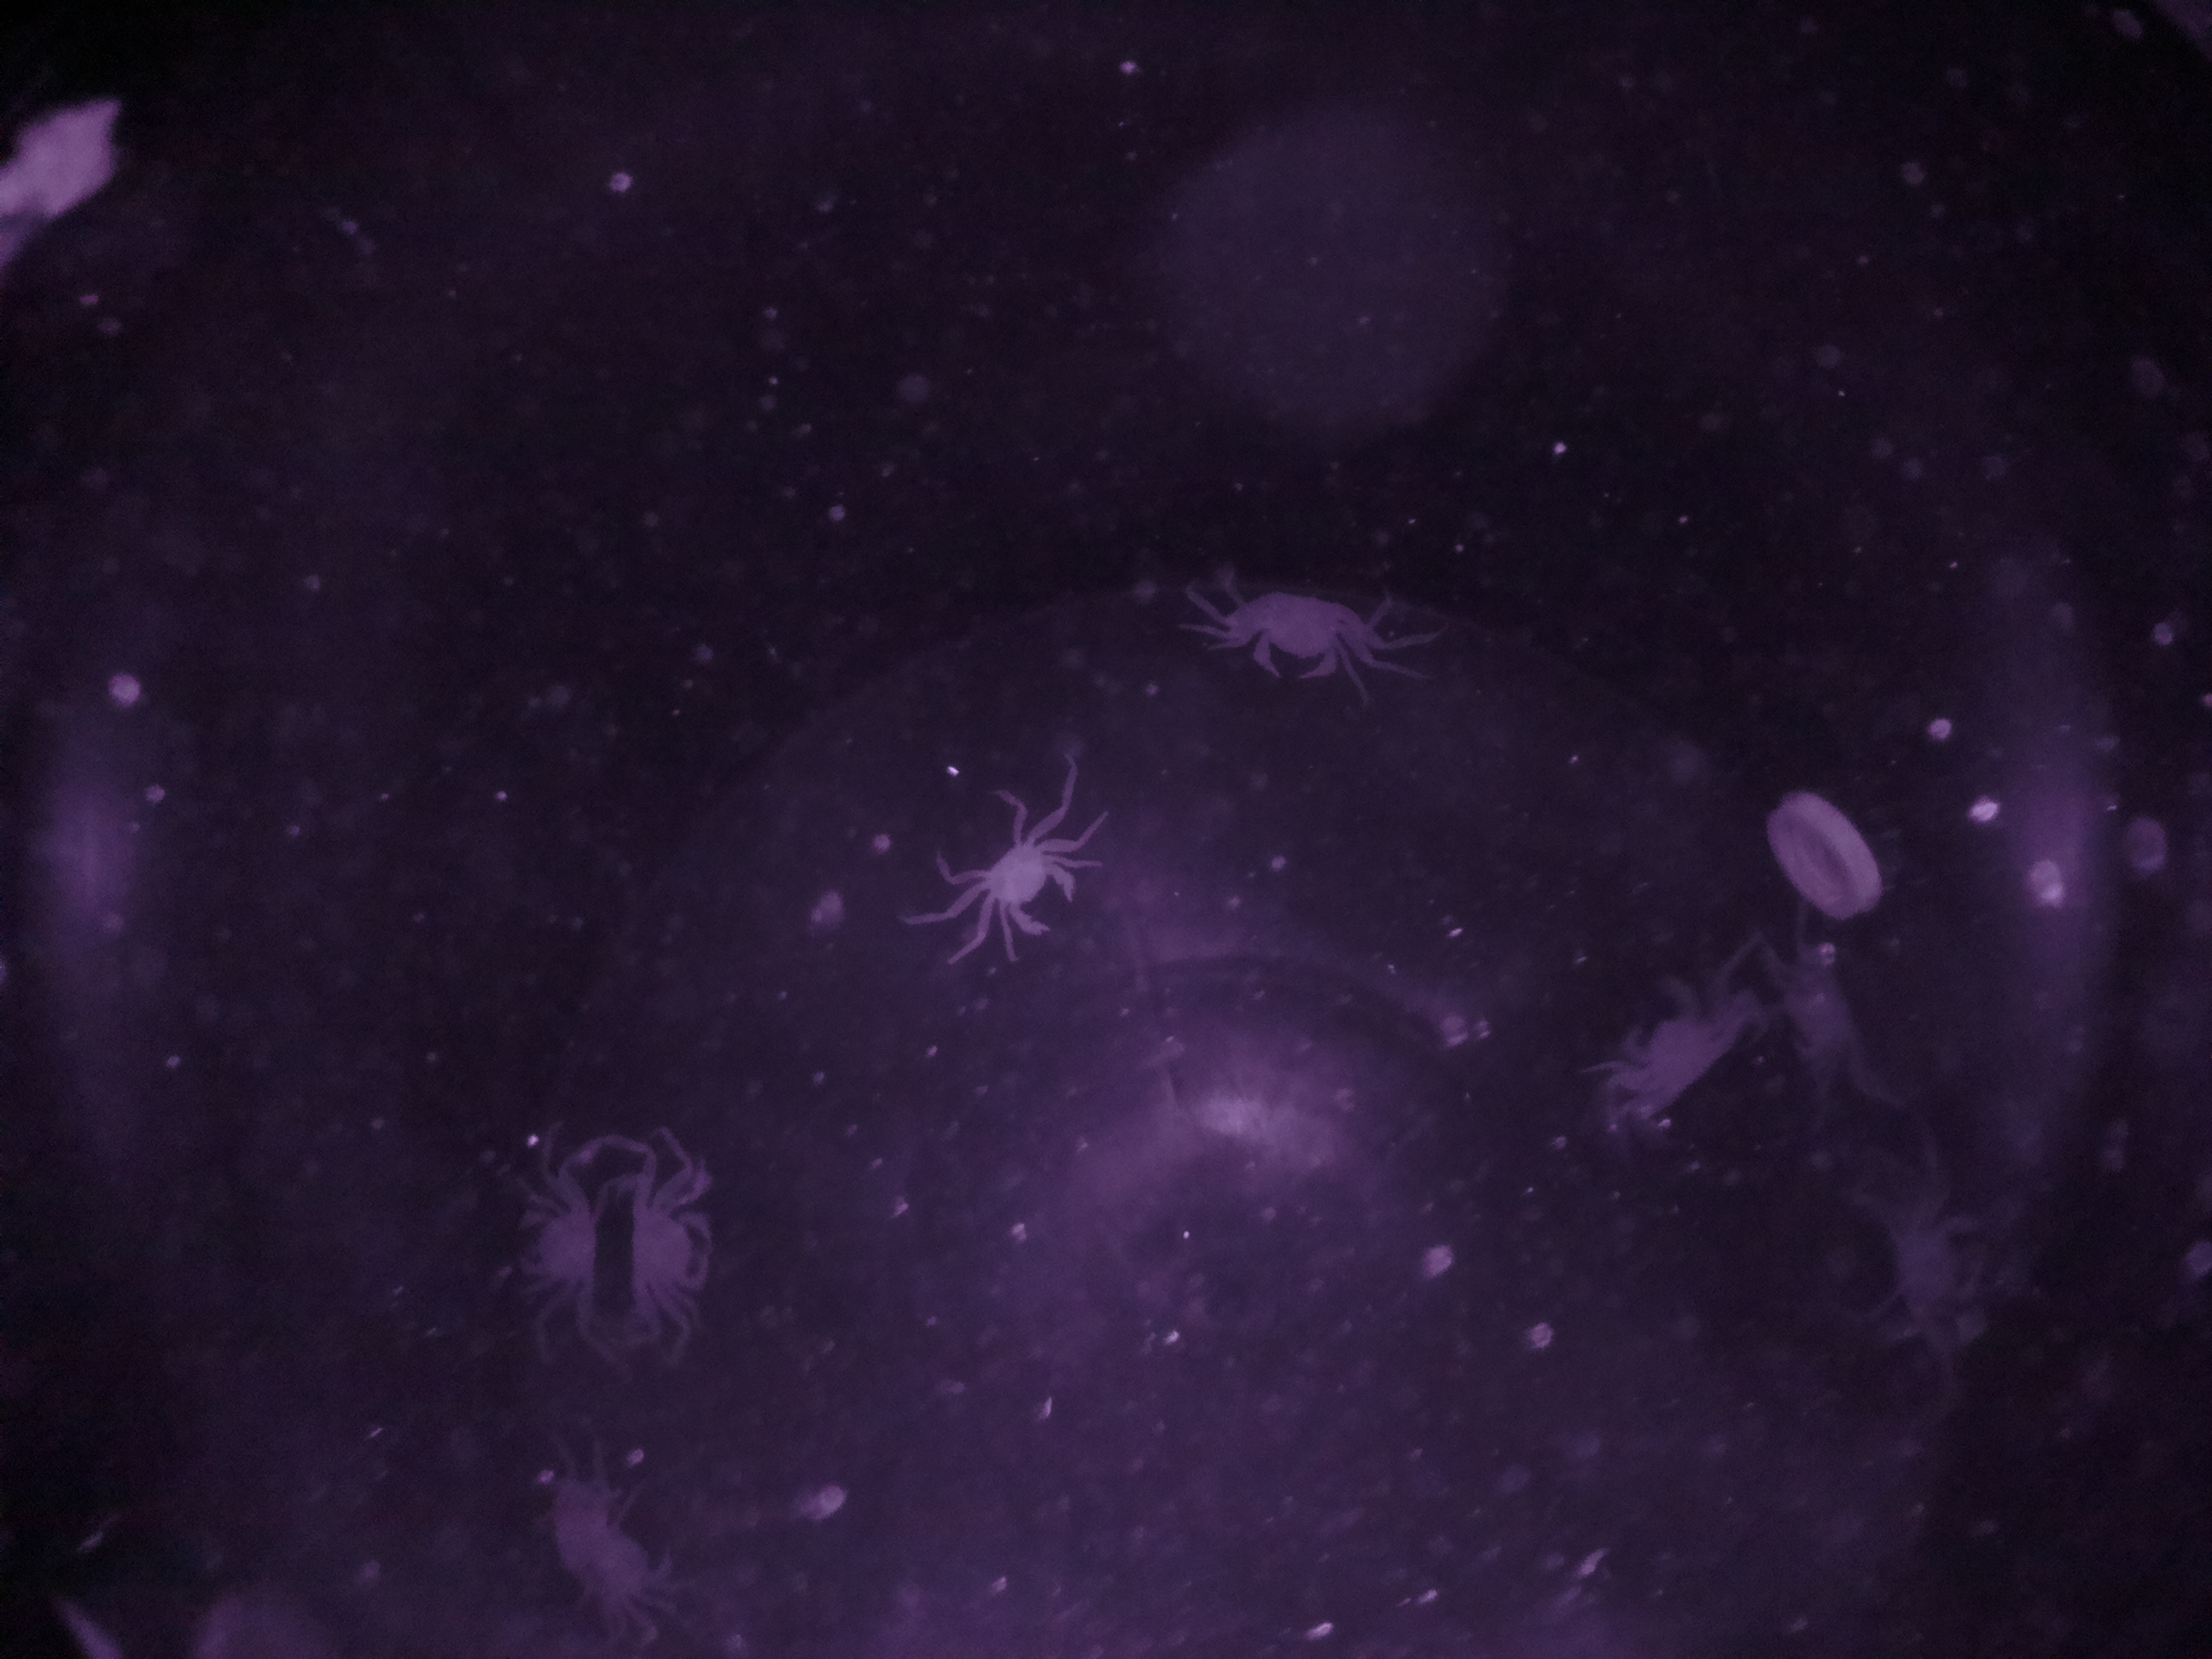Crab: (1200, 572, 1379, 702), (1611, 965, 1740, 1145), (624, 1166, 735, 1333), (963, 814, 1087, 955), (495, 1168, 606, 1317)
